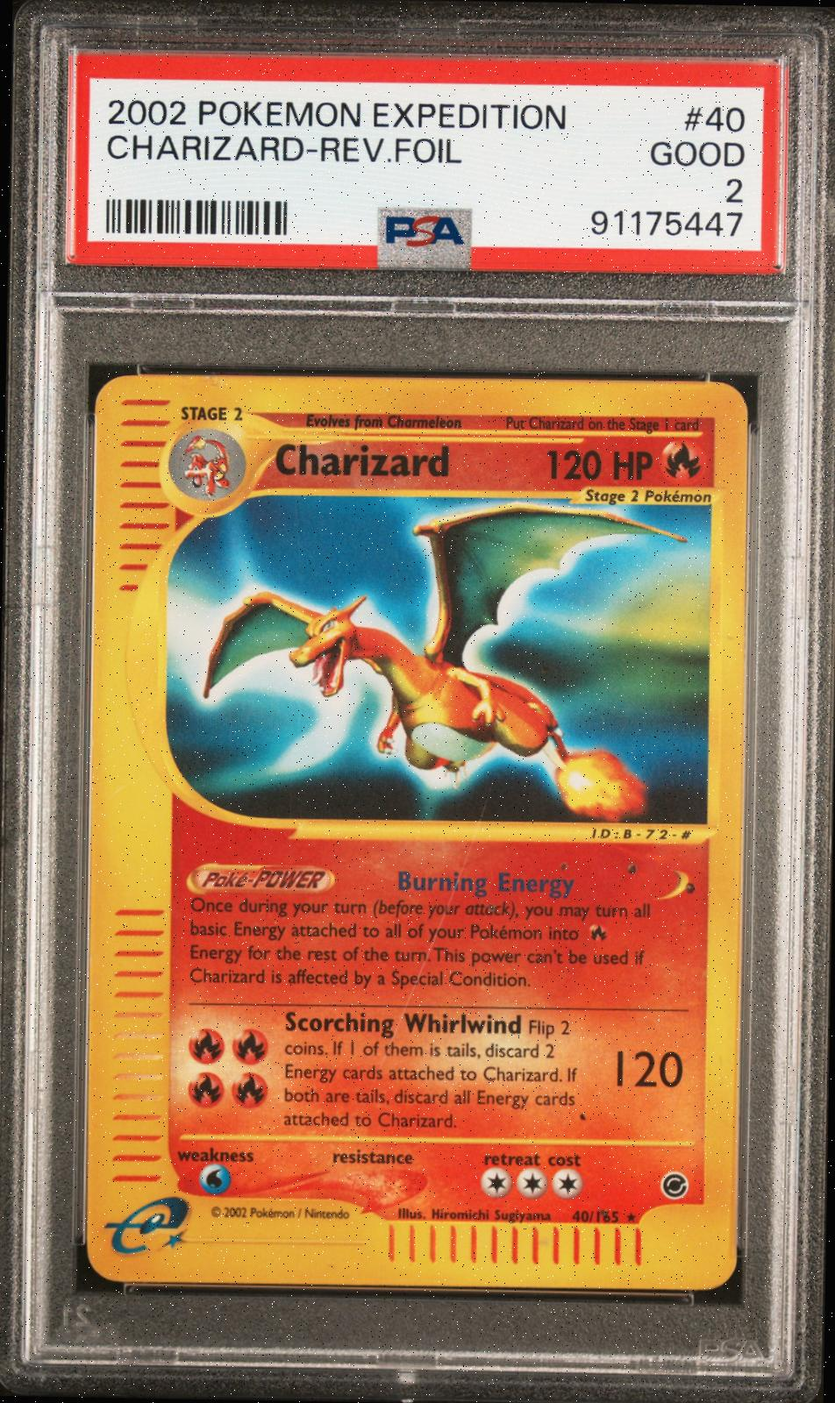card-2UtV: (86, 374, 748, 1291)
